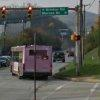buses: (12, 46, 58, 80)
